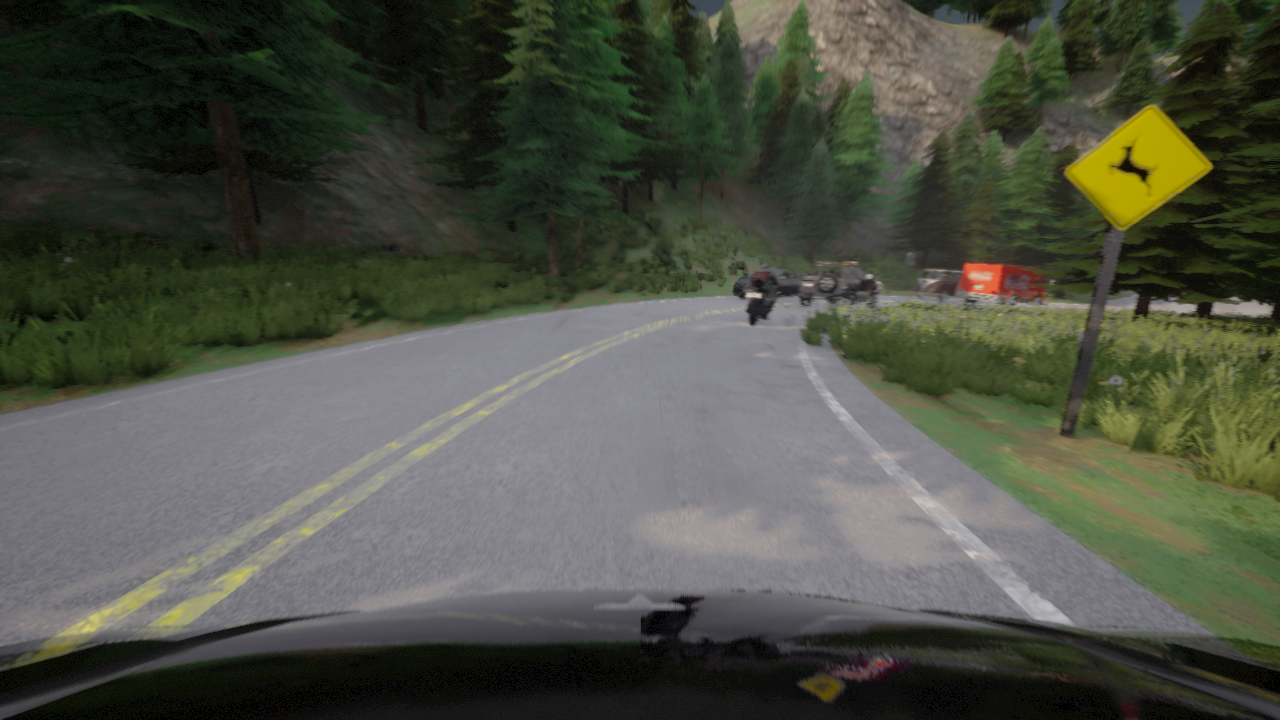cyclist: (0, 588, 1279, 719), (956, 262, 1054, 306), (796, 261, 880, 310), (734, 267, 806, 298), (746, 276, 783, 324), (914, 268, 962, 300), (1177, 292, 1197, 304)
